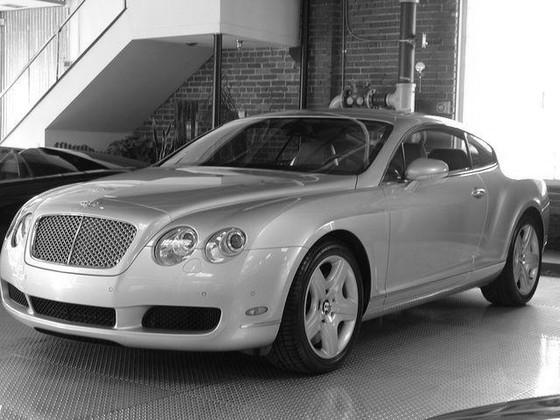car: (2, 112, 552, 372)
